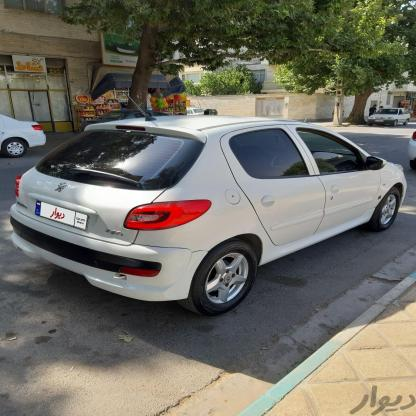Car: (9, 120, 416, 316), (0, 110, 48, 166), (362, 101, 408, 133)
